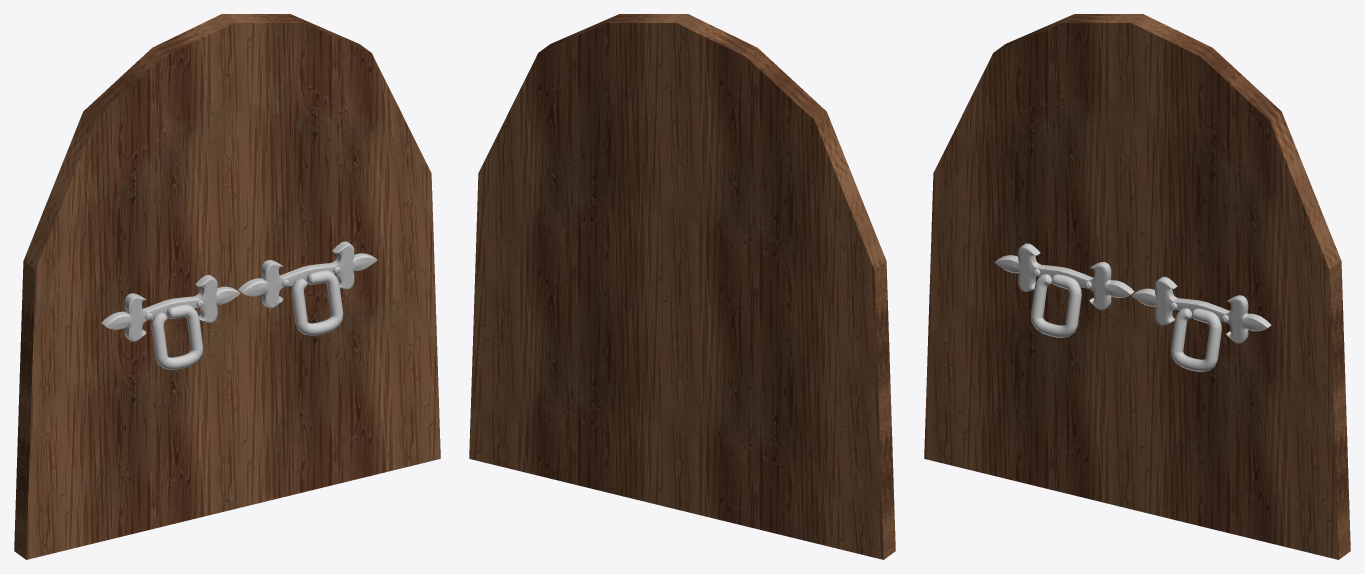
The model's file is door.fbx.
3 renders of one model, left to right at view 1: azimuth 30°, elevation 25°; view 2: azimuth 150°, elevation 25°; view 3: azimuth 330°, elevation 25°, orthographic.
Visible parts, largest first — view 1: door, ringDeco_base16 (×2), chain_piece4, chain_piece5; view 2: door; view 3: door, ringDeco_base16 (×2), chain_piece4, chain_piece5.
Boxes of the visible parts, <box> form: door: <box>14,14,440,559</box>; ringDeco_base16 (×2): <box>101,241,377,341</box>; chain_piece4: <box>151,304,203,369</box>; chain_piece5: <box>291,270,343,335</box>; door: <box>469,14,895,559</box>; door: <box>924,14,1350,559</box>; ringDeco_base16 (×2): <box>994,243,1271,343</box>; chain_piece4: <box>1031,274,1081,337</box>; chain_piece5: <box>1171,308,1221,372</box>.
Bounding box in the file's own units: 5.18 × 5.81 × 0.607.
